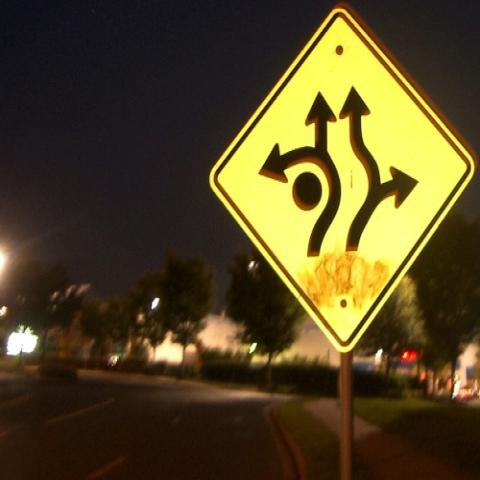car: (41, 360, 77, 380)
